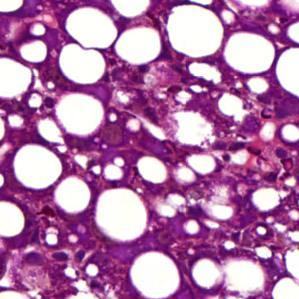steatosis: (90, 188, 153, 241), (161, 6, 221, 57), (129, 248, 184, 296), (11, 143, 65, 189), (55, 93, 109, 138), (114, 27, 163, 66)
